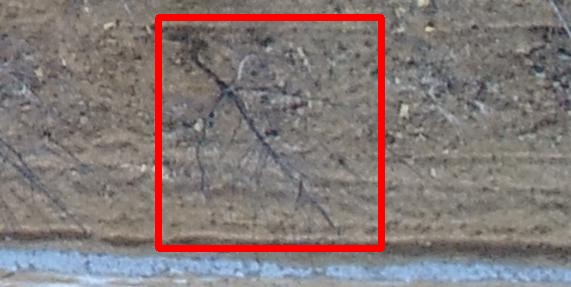apple: (158, 17, 381, 248)
